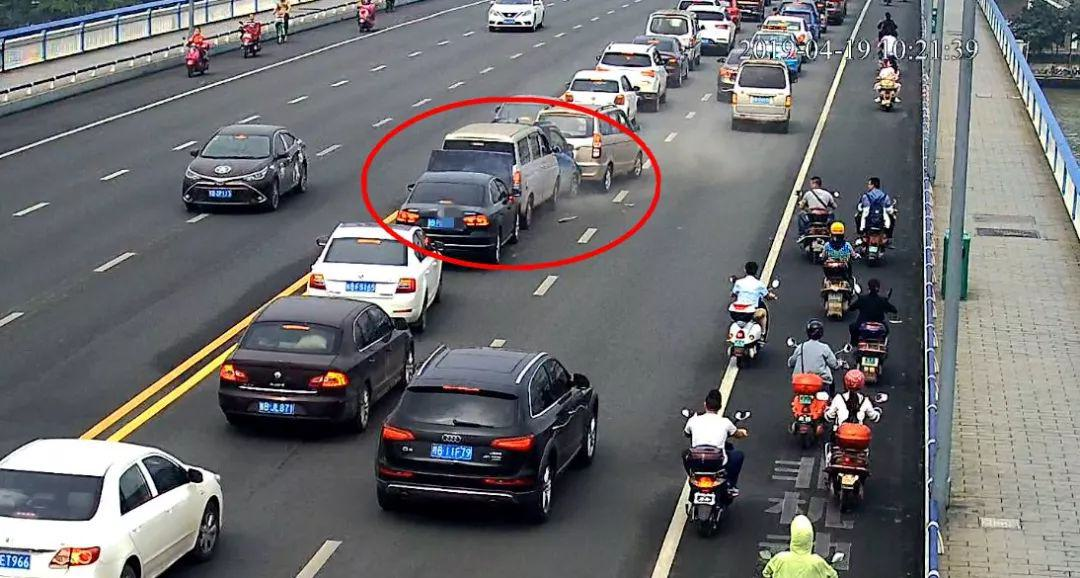car: (378, 331, 595, 521), (217, 278, 416, 435), (1, 440, 219, 578), (300, 204, 443, 331), (451, 124, 589, 217), (183, 125, 301, 217), (539, 100, 658, 187), (415, 168, 527, 260), (595, 38, 687, 116), (564, 68, 652, 126), (730, 58, 790, 134), (678, 1, 745, 52), (639, 27, 695, 86), (762, 7, 821, 60), (746, 25, 803, 74), (480, 1, 545, 39), (723, 44, 763, 97)
motorbike: (676, 440, 744, 536), (714, 291, 777, 371), (824, 424, 876, 508), (788, 182, 838, 260), (173, 23, 233, 77), (854, 317, 898, 388), (811, 247, 851, 317), (855, 201, 895, 264), (790, 377, 825, 445), (264, 1, 304, 44), (874, 66, 901, 113), (347, 2, 383, 37), (237, 21, 275, 54)
person: (667, 378, 735, 471), (754, 510, 827, 578), (784, 316, 851, 382), (851, 273, 907, 345), (837, 366, 879, 434), (846, 167, 896, 224), (728, 265, 773, 324), (824, 224, 874, 276), (800, 174, 833, 218), (880, 11, 909, 51)
